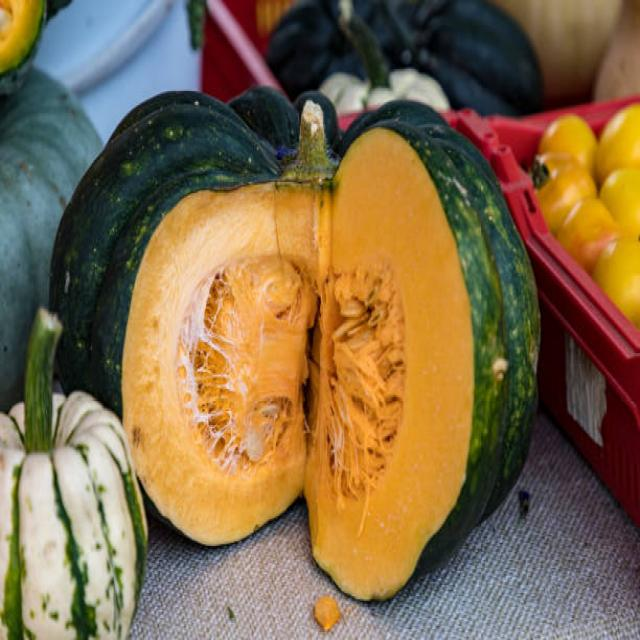Pumpkin: (301, 98, 529, 599), (123, 84, 309, 546)
